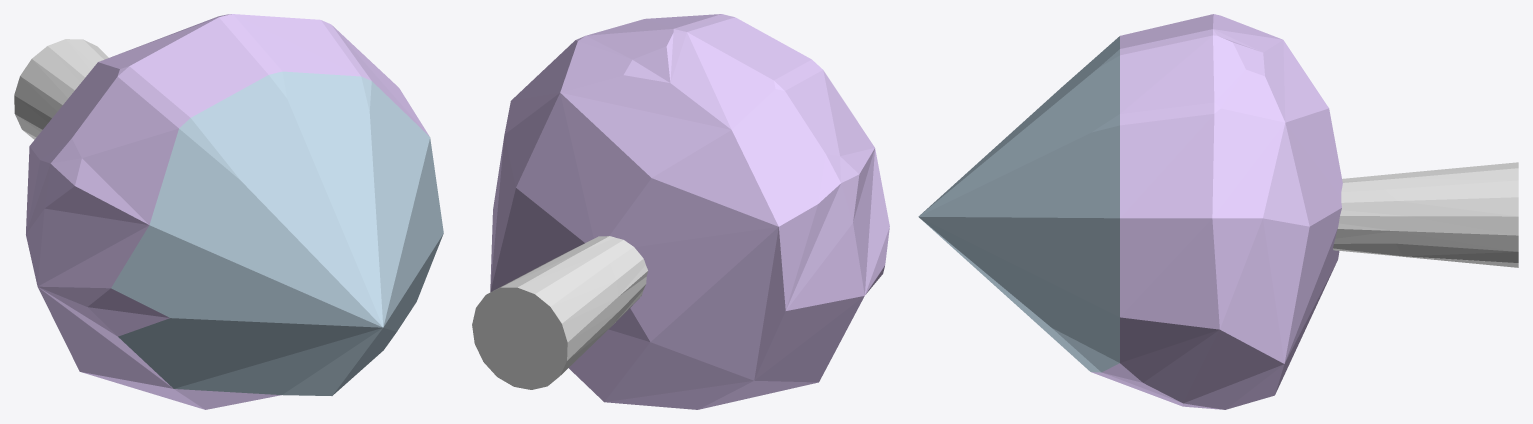
Rendered from tree01.fbx.
3 renders of one model, left to right at view 1: azimuth 30°, elevation 25°; view 2: azimuth 150°, elevation 25°; view 3: azimuth 270°, elevation 25°, orthographic. The views are drawn at different scales.
Parts seen in each view (by area): view 1: tree_up; view 2: tree_up; view 3: tree_up.
Boxes of the visible parts, <box> form: tree_up: <box>14,14,443,409</box>; tree_up: <box>472,14,889,409</box>; tree_up: <box>918,14,1518,409</box>.
Size of the model in its own units: 0.9981 by 0.9534 by 1.47.
